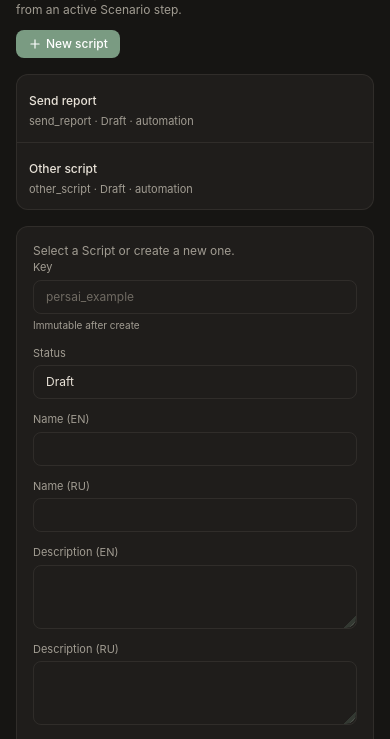
Test: AdminScriptsPage integration › ignores a stale draft-save response after selecting another Script
Expected: the text "Send report" is shown, x1=29 y1=93 x2=97 y2=108
Click the button "Send report send_report · Draft · automation" at (63, 100), box x1=17 y1=75 x2=373 y2=142
(page scrolled)
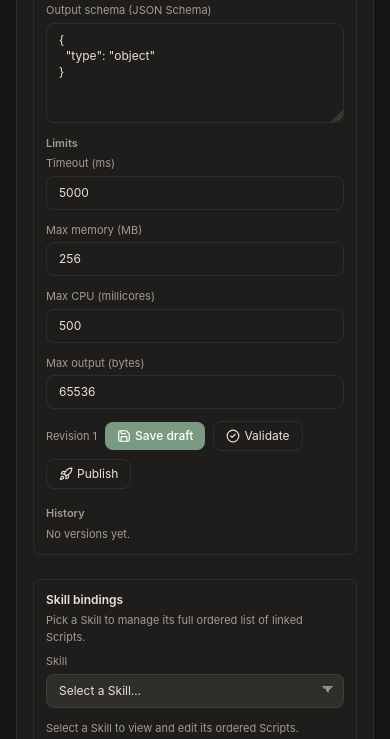
Click the button "Save draft" at (155, 436), box x1=105 y1=422 x2=205 y2=450
(page scrolled)
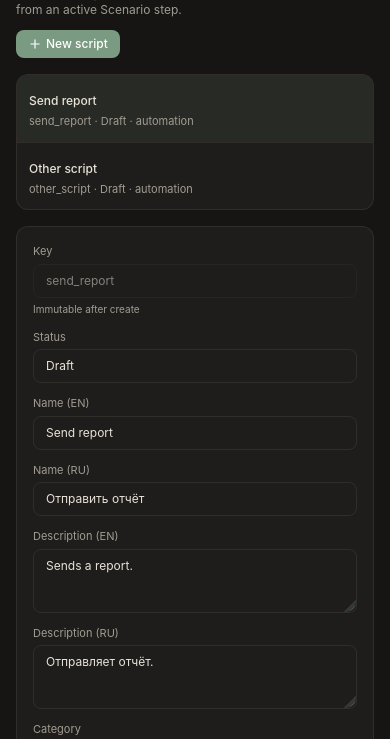
Click the button "Other script other_script · Draft · automation" at (63, 168), box x1=17 y1=142 x2=373 y2=209
(page scrolled)
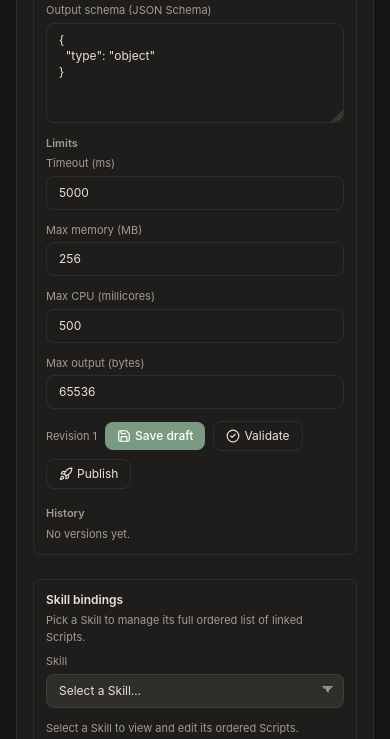
Expected: the button "Save draft" is enabled, x1=105 y1=422 x2=205 y2=450
